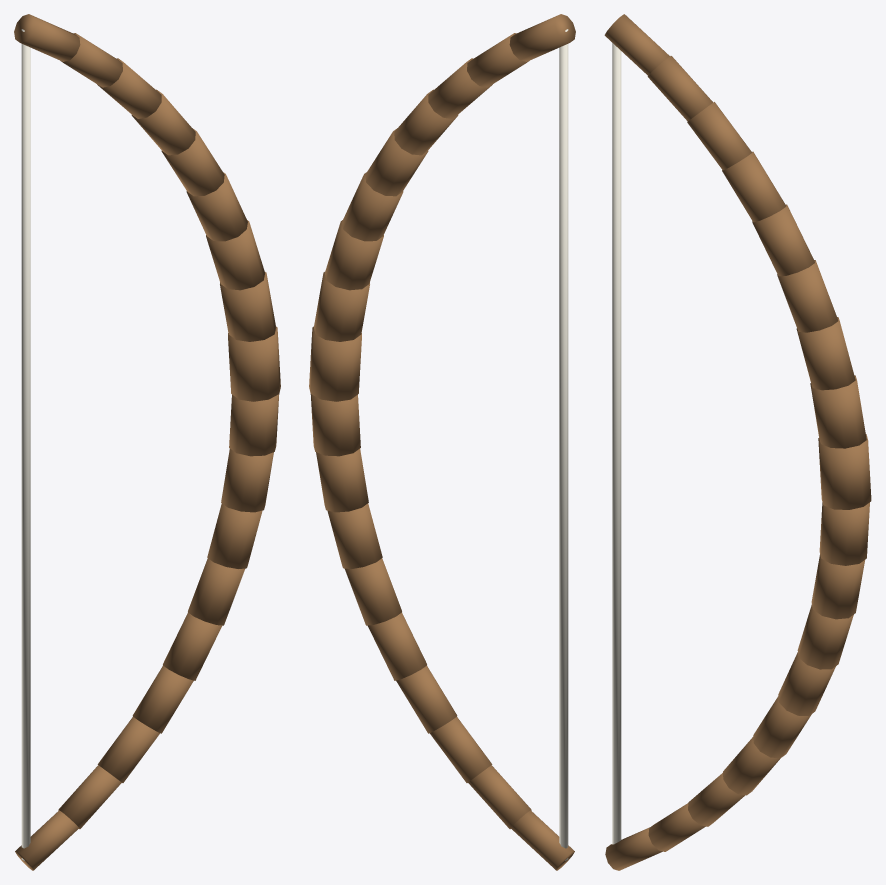
File: bow.glb
The picture shows the model from 3 angles, left to right: view 1: azimuth 30°, elevation 25°; view 2: azimuth 150°, elevation 25°; view 3: azimuth 330°, elevation 25°; orthographic projection.
Visible parts, largest first — view 1: bow; view 2: bow; view 3: bow.
Part boxes in pixels (bbox=[...]): bow: bbox=[14, 14, 280, 870]; bow: bbox=[309, 14, 575, 870]; bow: bbox=[604, 14, 871, 870].
Bounding box in the file's own units: 0.3181 × 1 × 0.0541.
